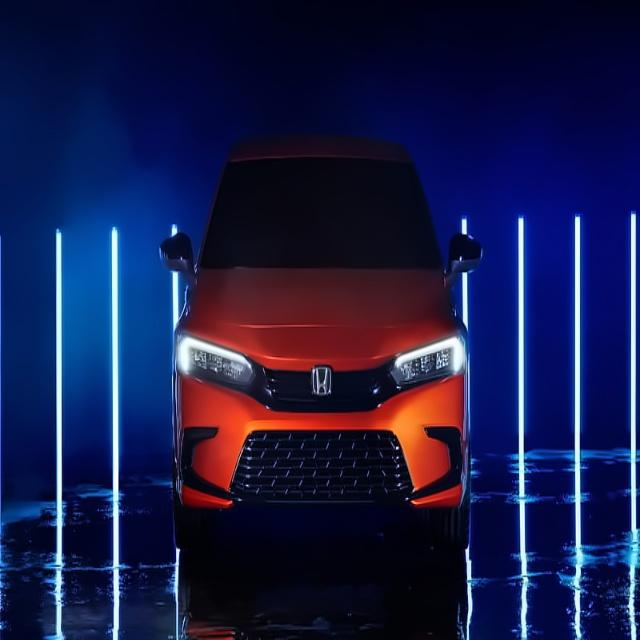Car hood: (178, 258, 459, 370)
Front bumper: (168, 373, 475, 522)
Headlight - -L-: (390, 333, 469, 399)
Headlight - -R-: (173, 336, 255, 393)
Side mirror - -L-: (443, 229, 483, 288)
Side mirror - -R-: (158, 229, 200, 282)
